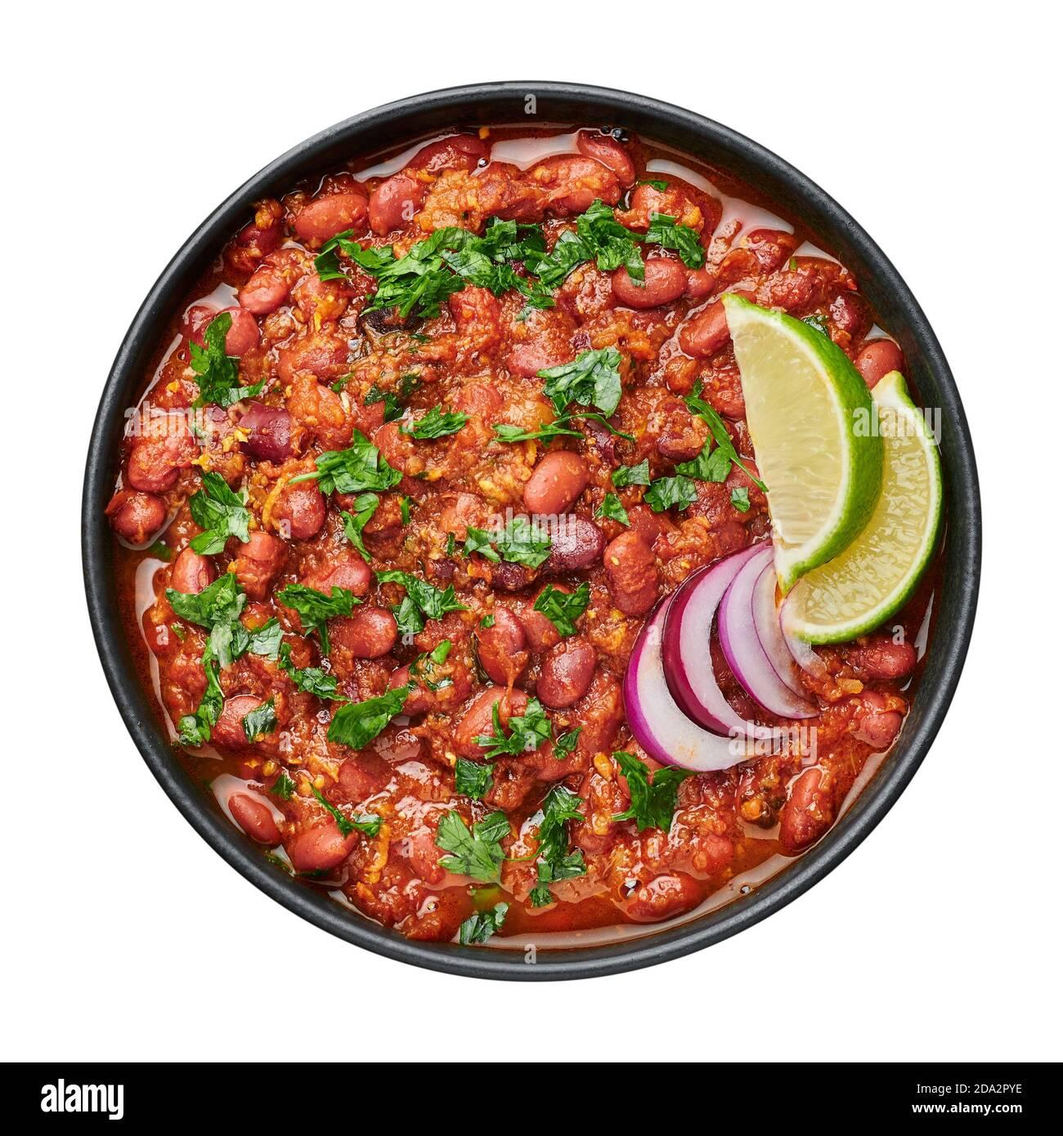rajma: (147, 133, 913, 932)
